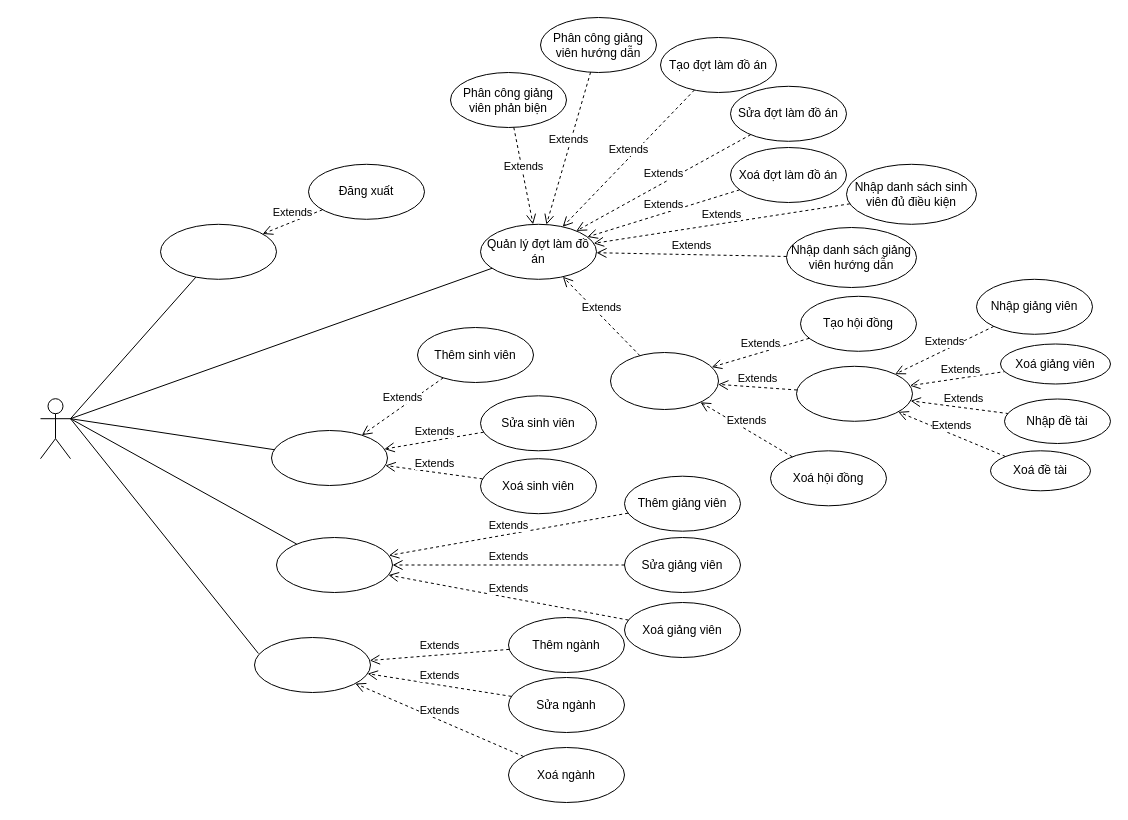
Some shapes in this 1128 by 820 pixel diagram are drawn without their labels. Each missing label, with the centre of its shape:
Người quản trị: point (55, 428)
Quản lý giảng viên: point (334, 564)
Quản lý hội đồng tốt nghiệp: point (664, 381)
Quản lý ngành: point (312, 664)
Quản lý sinh viên: point (329, 458)
Xem hội đồng: point (854, 393)
Đăng nhập: point (218, 251)
